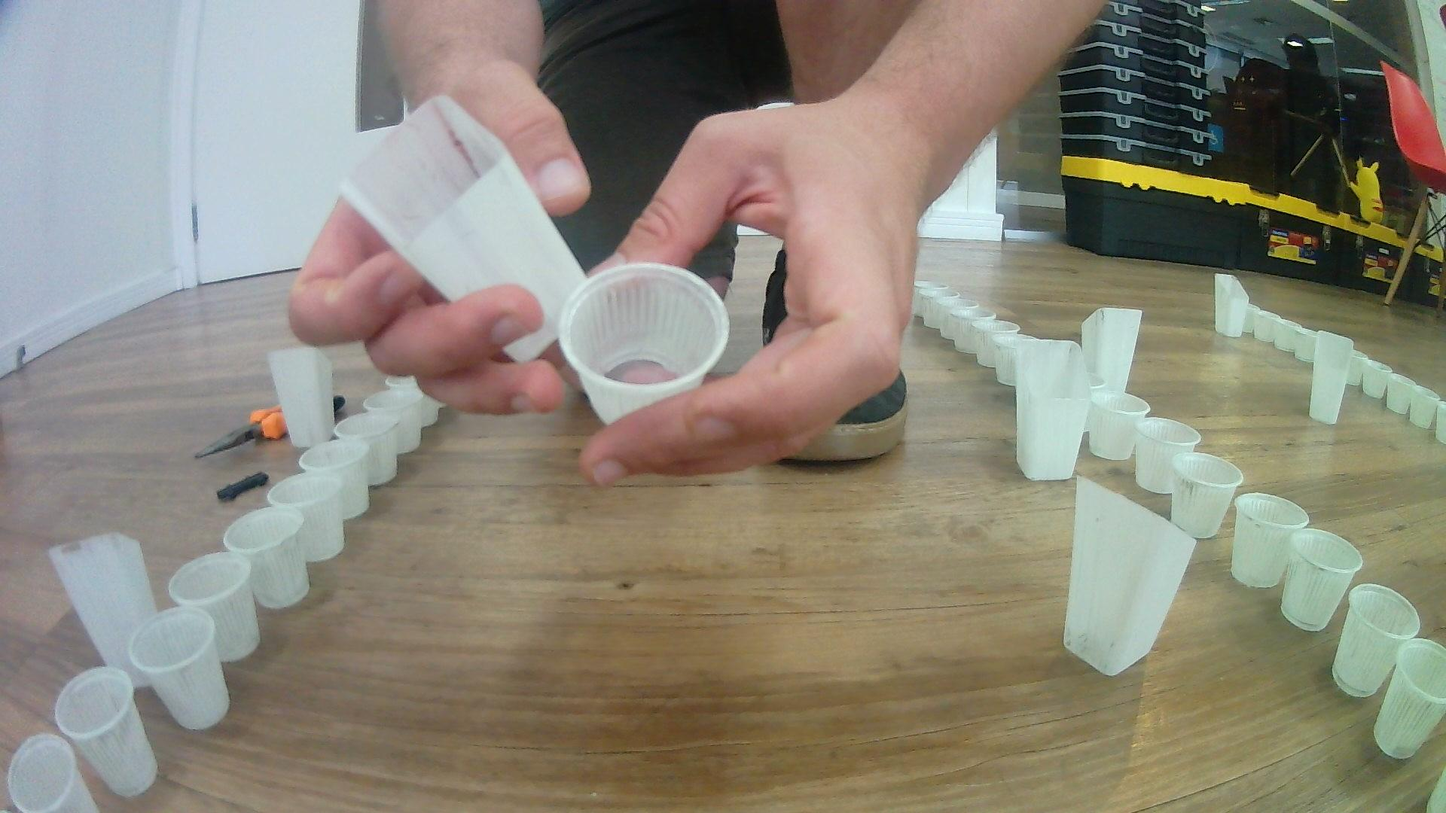erva_daninha: (333, 90, 589, 365), (1063, 473, 1197, 678), (48, 531, 156, 686), (1015, 340, 1092, 482), (267, 343, 337, 449), (1081, 306, 1143, 397), (1309, 330, 1355, 425), (1214, 273, 1251, 338)
planta: (557, 260, 733, 427), (54, 665, 158, 796), (127, 606, 230, 731), (1330, 583, 1421, 698), (167, 553, 261, 663), (222, 506, 310, 609), (1374, 638, 1446, 760), (1280, 528, 1364, 632), (1231, 492, 1310, 589), (7, 733, 100, 813), (267, 473, 346, 562), (1170, 453, 1245, 540), (298, 440, 370, 521), (1134, 417, 1202, 495), (332, 413, 398, 487), (1089, 393, 1151, 461), (363, 388, 422, 454), (385, 376, 442, 427), (978, 321, 1023, 367), (994, 333, 1033, 386), (953, 309, 998, 354), (938, 298, 980, 341), (922, 288, 959, 328), (1410, 386, 1441, 430), (1362, 358, 1394, 400), (914, 281, 949, 318), (1386, 372, 1415, 415), (1273, 321, 1304, 353), (1252, 310, 1278, 346), (1348, 349, 1371, 387), (1243, 305, 1266, 340), (1294, 329, 1317, 362), (1435, 401, 1446, 443)
